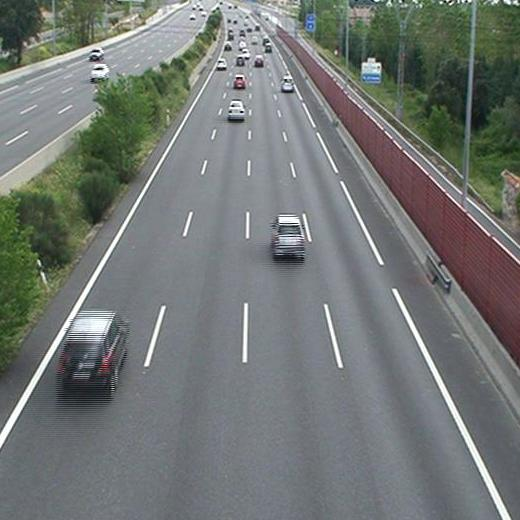car: (63, 312, 123, 383), (273, 216, 306, 256), (228, 101, 245, 119), (281, 77, 293, 90), (233, 75, 245, 88), (216, 58, 226, 69), (254, 56, 264, 66), (234, 56, 245, 65), (264, 44, 271, 52)
